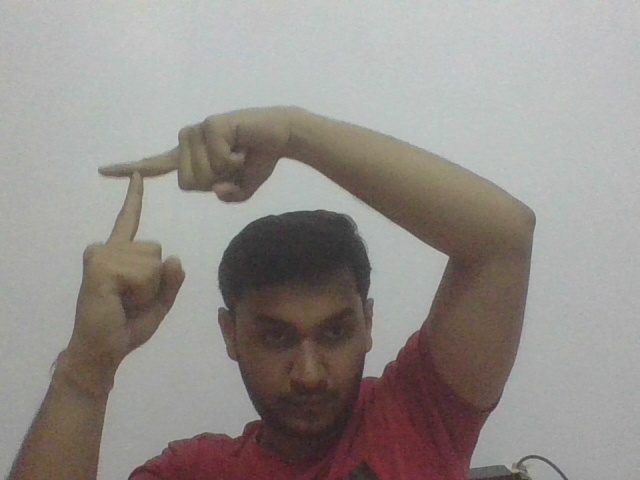T: (95, 145, 171, 238)
